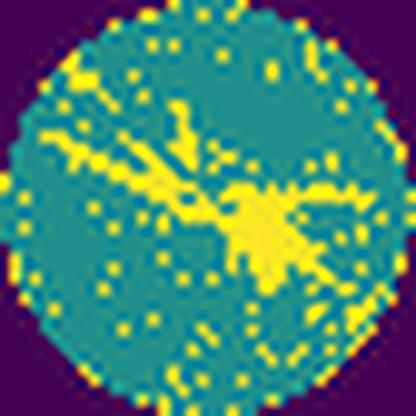Loc: (39, 124, 377, 296), (167, 98, 198, 172)
